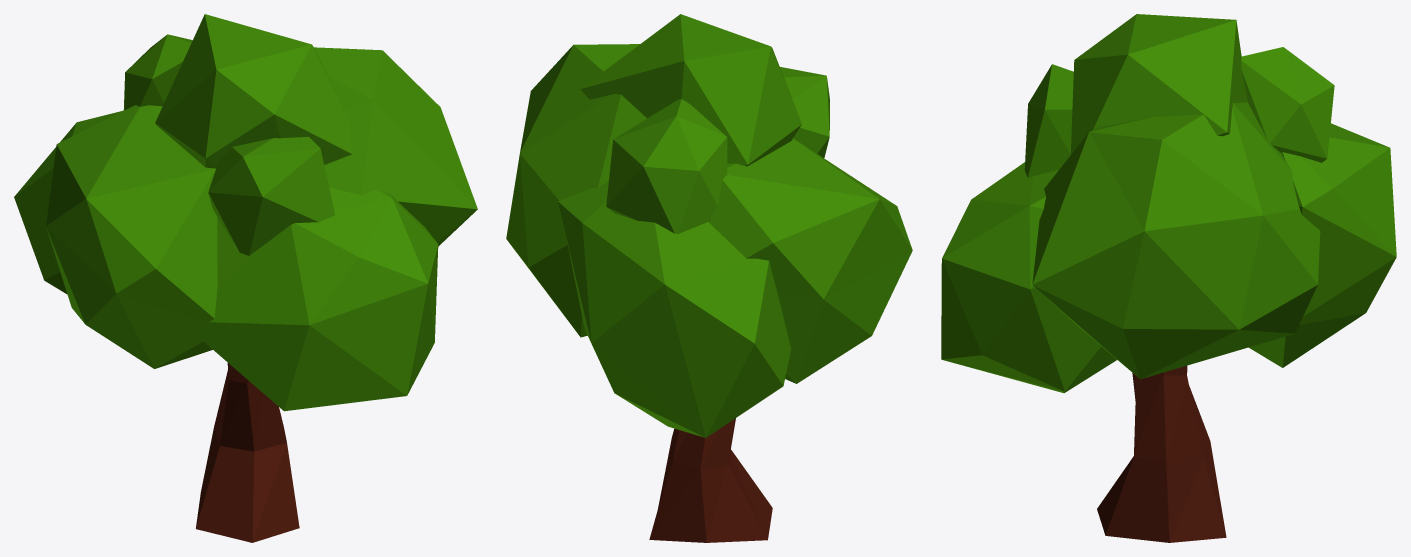
Rendered from M_G_Tree.FBX.
The picture shows the model from 3 angles, left to right: view 1: azimuth 30°, elevation 25°; view 2: azimuth 150°, elevation 25°; view 3: azimuth 270°, elevation 25°; orthographic projection. The views are drawn at different scales.
Visible parts, largest first — view 1: GeoSphere043, Cylinder011; view 2: GeoSphere043, Cylinder011; view 3: GeoSphere043, Cylinder011.
Boxes of the visible parts, bbox=[...] form: GeoSphere043: bbox=[14, 14, 477, 411]; Cylinder011: bbox=[196, 363, 299, 542]; GeoSphere043: bbox=[506, 14, 912, 437]; Cylinder011: bbox=[649, 418, 772, 542]; GeoSphere043: bbox=[941, 14, 1396, 393]; Cylinder011: bbox=[1097, 365, 1226, 542].
Size of the model in its own units: 709 by 934 by 769.
